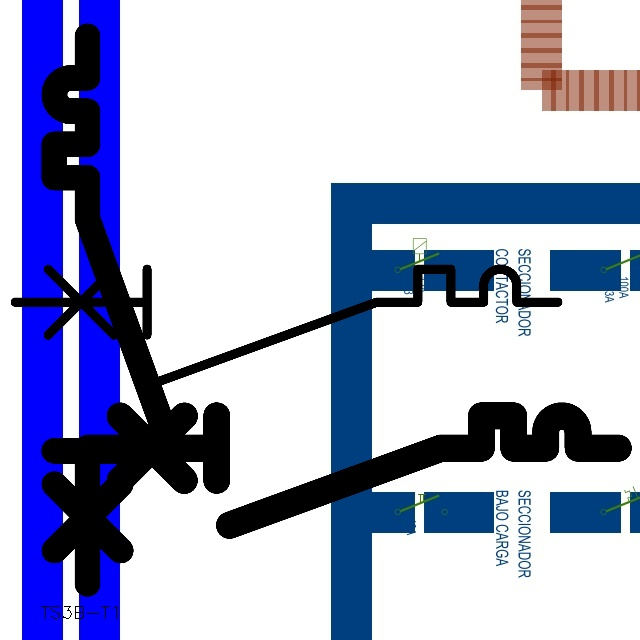interruptor_termomagnetico: (40, 22, 181, 598), (1, 255, 572, 395), (74, 402, 632, 538)
